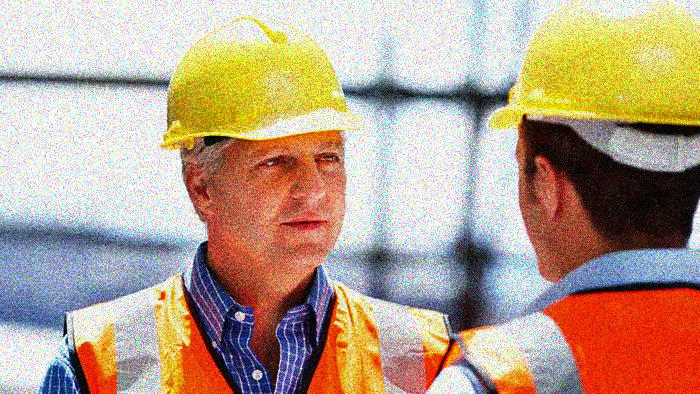helmet: (485, 1, 700, 275), (156, 16, 366, 267)
